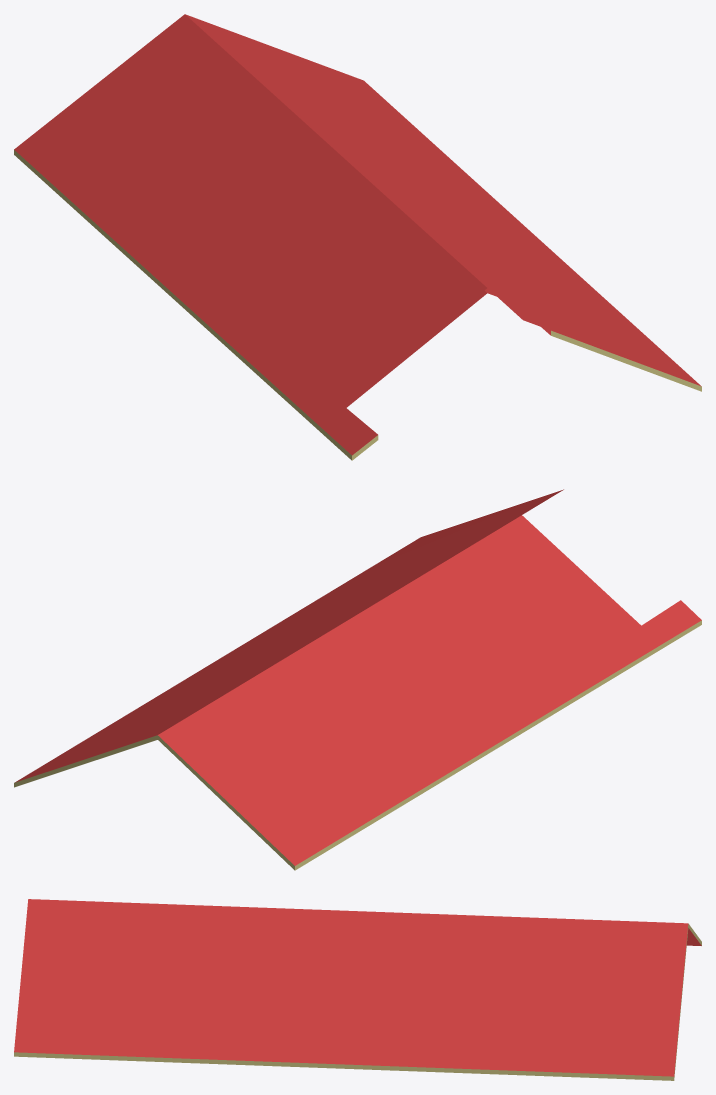
3 renders of one model, top to bottom at view 1: azimuth 30°, elevation 25°; view 2: azimuth 150°, elevation 25°; view 3: azimuth 270°, elevation 25°, orthographic. The views are drawn at different scales.
Bounding box in the file's own units: 7.88 × 14.4 × 2.05.
